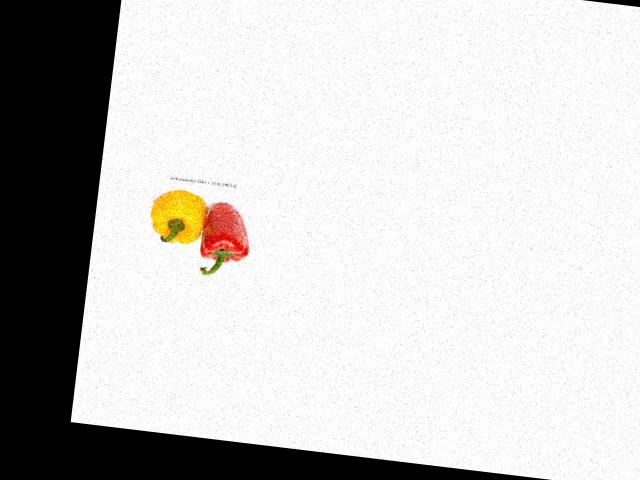bell_pepper: (144, 181, 211, 251)
